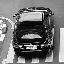motor: (21, 12, 51, 54)
